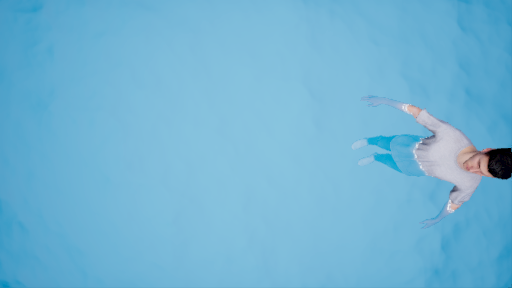person: (363, 94, 512, 230)
